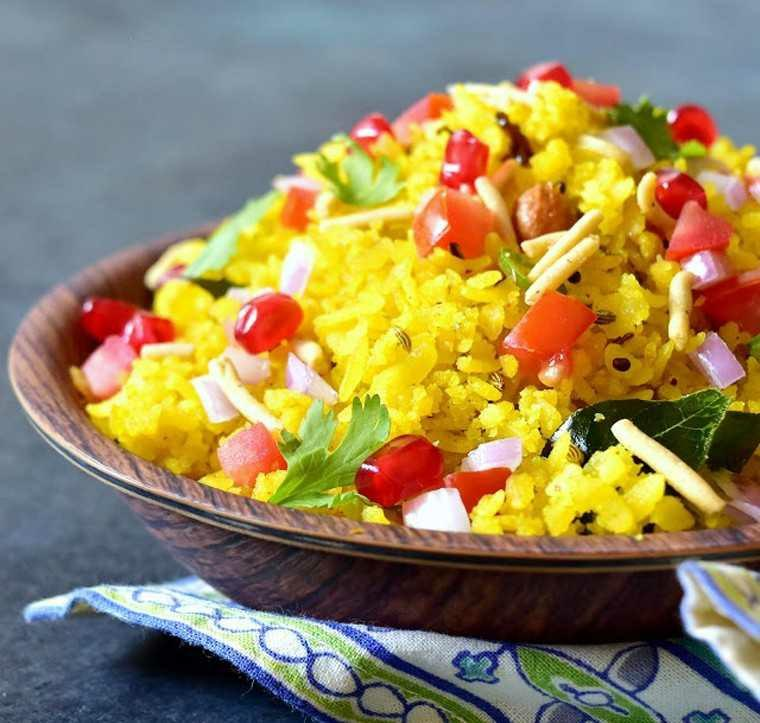Poha: (73, 55, 760, 528)
